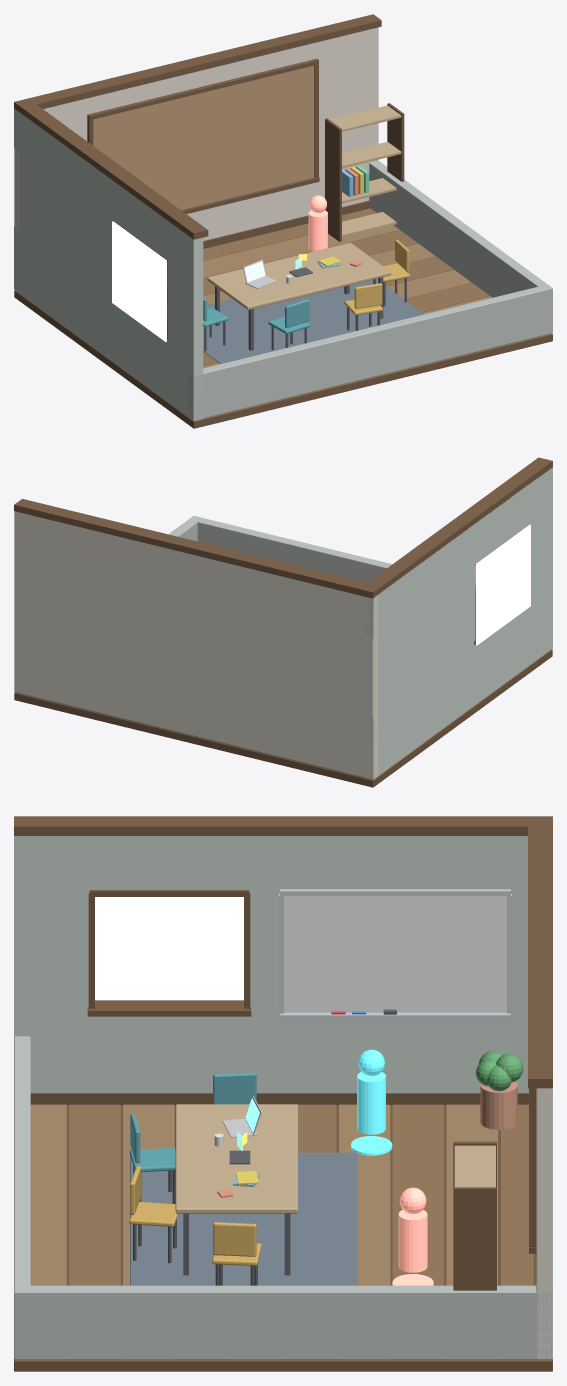
File: room.glb
3 renders of one model, top to bottom at view 1: azimuth 30°, elevation 25°; view 2: azimuth 150°, elevation 25°; view 3: azimuth 270°, elevation 25°, orthographic. The views are drawn at different scales.
Parts seen in each view (by area): view 1: Corkboard_Surface, Wall_Front_Cutaway, Wall_Back, Wall_Left_Bottom, Wall_Left_Top, Wall_Right_Cutaway, Wall_Left_Back, Meeting_Rug, Table_Top, Roof_Rim_Back, Window_Sky_Panel, FloorBase (+22 smaller); view 2: Wall_Back, Wall_Left_Bottom, Wall_Left_Back, Wall_Left_Top, Roof_Rim_Back, Wall_Front_Cutaway, Window_Sky_Panel, FloorBase, Roof_Rim_Left, Wall_Left_Front, Wall_Right_Cutaway, FloorPlank_9; view 3: Wall_Right_Cutaway, Wall_Left_Bottom, Wall_Left_Top, Whiteboard_Surface, Meeting_Rug, Window_Sky_Panel, Table_Top, Roof_Rim_Left, FloorPlank_1, FloorBase, Wall_Left_Front, FloorPlank_7 (+28 smaller).
Boxes of the visible parts, x1,y1,x2,y2 form: Corkboard_Surface: [93, 65, 314, 209]; Wall_Front_Cutaway: [188, 284, 552, 420]; Wall_Back: [14, 27, 378, 276]; Wall_Left_Bottom: [14, 227, 203, 420]; Wall_Left_Top: [14, 108, 203, 279]; Wall_Right_Cutaway: [369, 160, 552, 297]; Wall_Left_Back: [19, 152, 116, 297]; Meeting_Rug: [167, 279, 423, 363]; Table_Top: [207, 242, 390, 309]; Roof_Rim_Back: [14, 14, 381, 108]; Window_Sky_Panel: [112, 221, 166, 341]; FloorBase: [14, 290, 552, 428]; Wall_Back: [14, 511, 378, 778]; Wall_Left_Bottom: [363, 586, 552, 779]; Wall_Left_Back: [378, 564, 475, 712]; Wall_Left_Top: [363, 467, 552, 638]; Roof_Rim_Back: [14, 499, 381, 598]; Wall_Front_Cutaway: [189, 516, 475, 625]; Window_Sky_Panel: [476, 524, 530, 645]; FloorBase: [14, 649, 552, 787]; Roof_Rim_Left: [359, 457, 552, 597]; Wall_Left_Front: [526, 507, 552, 601]; Wall_Right_Cutaway: [168, 516, 200, 541]; FloorPlank_9: [15, 692, 372, 779]; Wall_Right_Cutaway: [14, 1285, 552, 1359]; Wall_Left_Bottom: [14, 1010, 528, 1092]; Wall_Left_Top: [14, 836, 527, 892]; Whiteboard_Surface: [284, 896, 506, 1012]; Meeting_Rug: [130, 1152, 357, 1285]; Window_Sky_Panel: [95, 897, 243, 1000]; Table_Top: [175, 1104, 297, 1213]; Roof_Rim_Left: [14, 816, 552, 835]; FloorPlank_1: [69, 1104, 120, 1359]; FloorBase: [14, 1105, 552, 1371]; Wall_Left_Front: [14, 892, 88, 1010]; FloorPlank_7: [392, 1104, 443, 1359].
Size of the model in its own units: 6.05 by 3.12 by 5.2.
